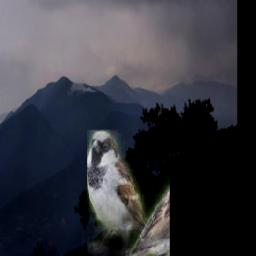Sparrow: (86, 131, 169, 256)
